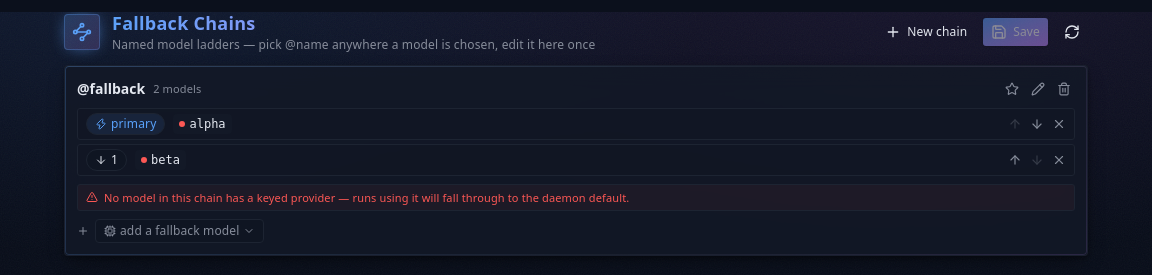
Chains view › keeps Save disabled until something changes
Expected: the button titled "Save chains" is disabled, 983,18 -> 1048,46
What coordinates should you click on to do the following:
click the button titled "Remove" in the row of "primary"
I would click on:
 (1059, 124)
Its box is 1052,116 -> 1066,130.
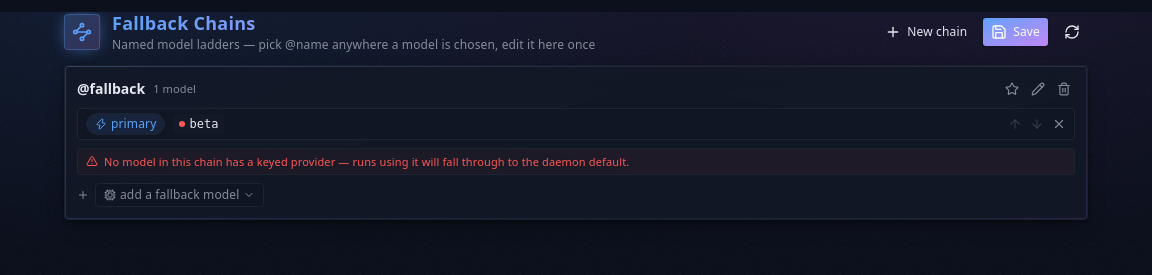
Expected: the button titled "Save chains" is enabled, 983,18 -> 1048,46
